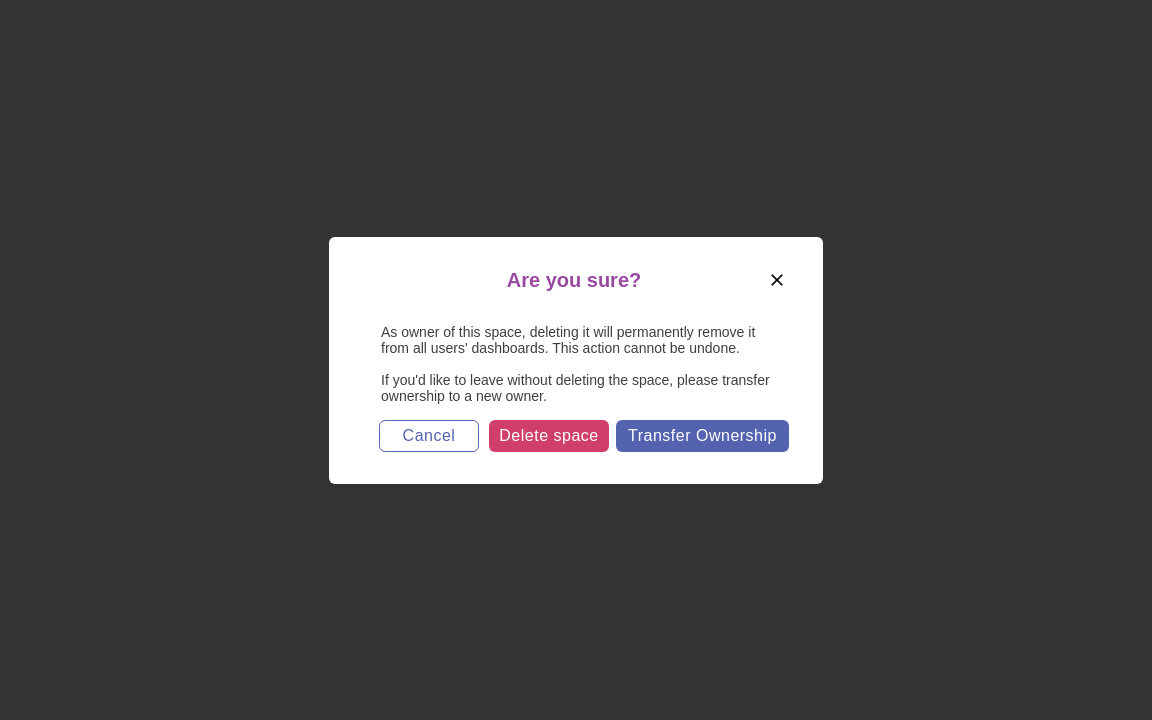
it: Delete Space Form › Space has editors › Things to display › should show a notification after Leave and Delete is pressed
This screenshot has width=1152, height=720.
Click the button "Delete space": (549, 436) [489, 420, 609, 452]
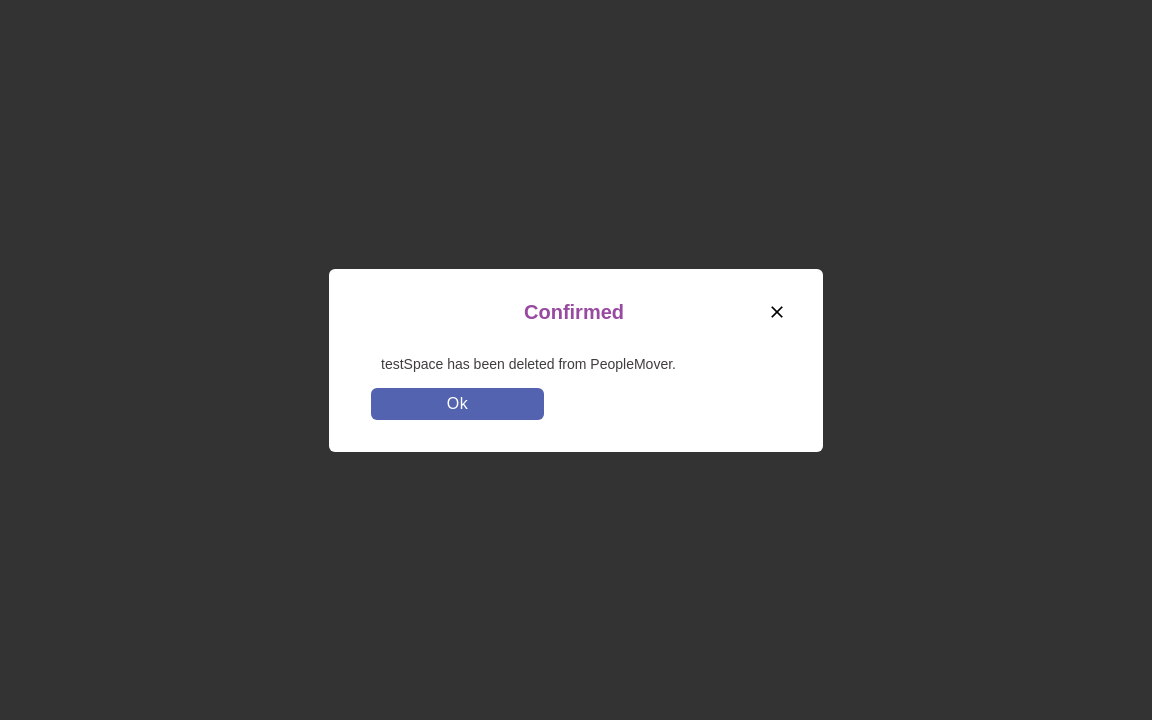
Result: the heading "Confirmed" is shown at [524, 300, 624, 322]
Result: the text "testSpace has been deleted from PeopleMover." is shown at [381, 356, 676, 372]
